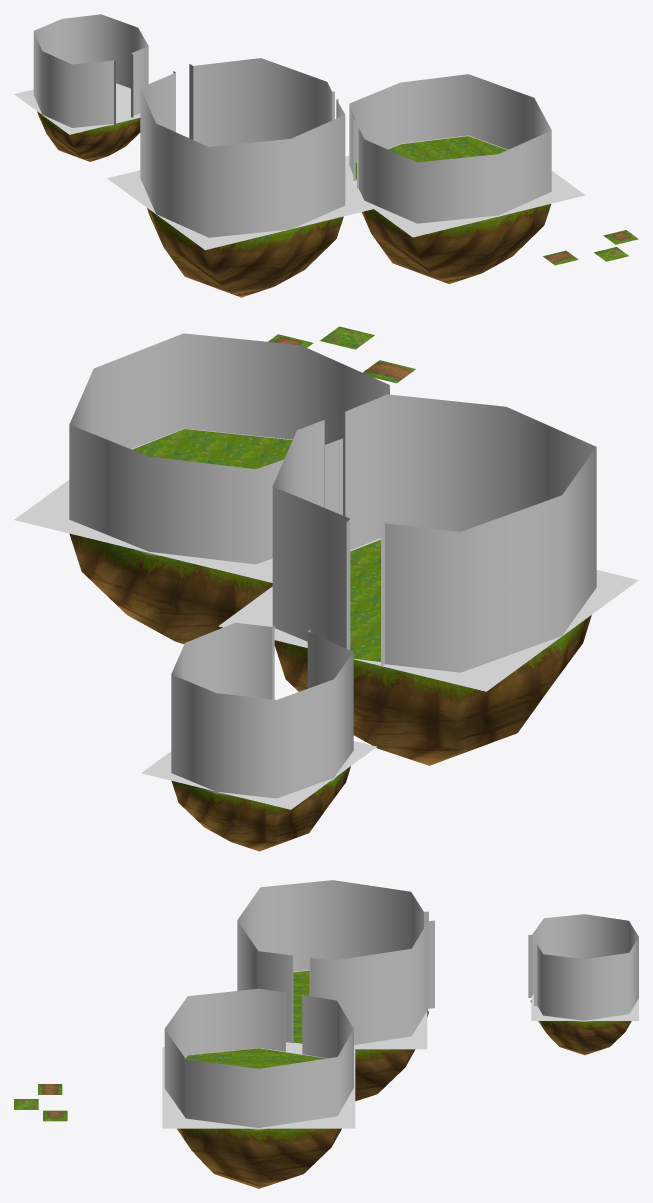
File: Xinshoucun.FBX
3 renders of one model, top to bottom at view 1: azimuth 30°, elevation 25°; view 2: azimuth 150°, elevation 25°; view 3: azimuth 270°, elevation 25°, orthographic. The views are drawn at different scales.
Parts seen in each view (by area): view 1: Cylinder006, Cylinder007, Cylinder005, 3, 2, 1; view 2: Cylinder006, Cylinder007, Cylinder005, 2, 3, 1, Plane004, Plane001; view 3: Cylinder006, Cylinder007, Cylinder005, 3, 2, 1.
Part boxes in pixels (<box>): Cylinder006: <box>107,58,374,250</box>; Cylinder007: <box>345,74,585,237</box>; Cylinder005: <box>14,14,148,134</box>; 3: <box>355,136,551,284</box>; 2: <box>147,208,343,297</box>; 1: <box>37,111,140,161</box>; Cylinder006: <box>218,394,638,691</box>; Cylinder007: <box>14,333,389,582</box>; Cylinder005: <box>141,622,376,809</box>; 2: <box>274,539,591,765</box>; 3: <box>69,429,292,644</box>; 1: <box>171,766,350,851</box>; Plane004: <box>320,326,374,349</box>; Plane001: <box>362,360,415,383</box>; Cylinder006: <box>237,880,434,1049</box>; Cylinder007: <box>162,988,355,1129</box>; Cylinder005: <box>528,914,638,1021</box>; 3: <box>177,1048,341,1188</box>; 2: <box>293,970,428,1101</box>; 1: <box>530,1000,631,1055</box>.
Bounding box in the file's own units: 144 × 78.38 × 235.
5 materials, 5 textured.
